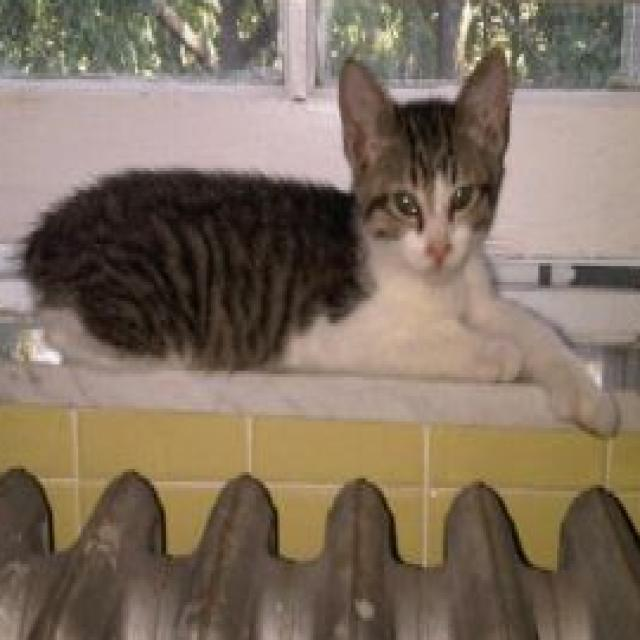American Bobtail: (13, 40, 622, 445)
